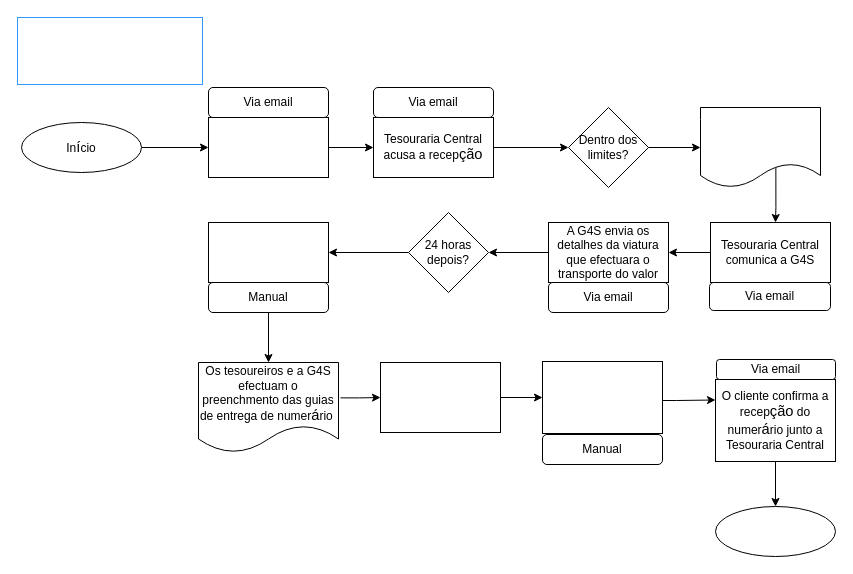
Image size: 853x574. Some labels were removed from this diagram. The centre of each missing label's shape, as x and y in pixels:
A G4S apresenta-se a Tesouraria Central: point (268, 252)
A G4S transporta o valor: point (440, 397)
A Tesouraria Central planifica as cedências do dia seguinte: point (760, 147)
Ag ê ncia/cliente efectua a recep ção do valor e da respectiva ced ê ncia: point (602, 397)
Ag ê ncia/cliente requisita numer á rio: point (268, 147)
AS IS Cash In Transit process: point (109, 50)
Fim: point (775, 531)
